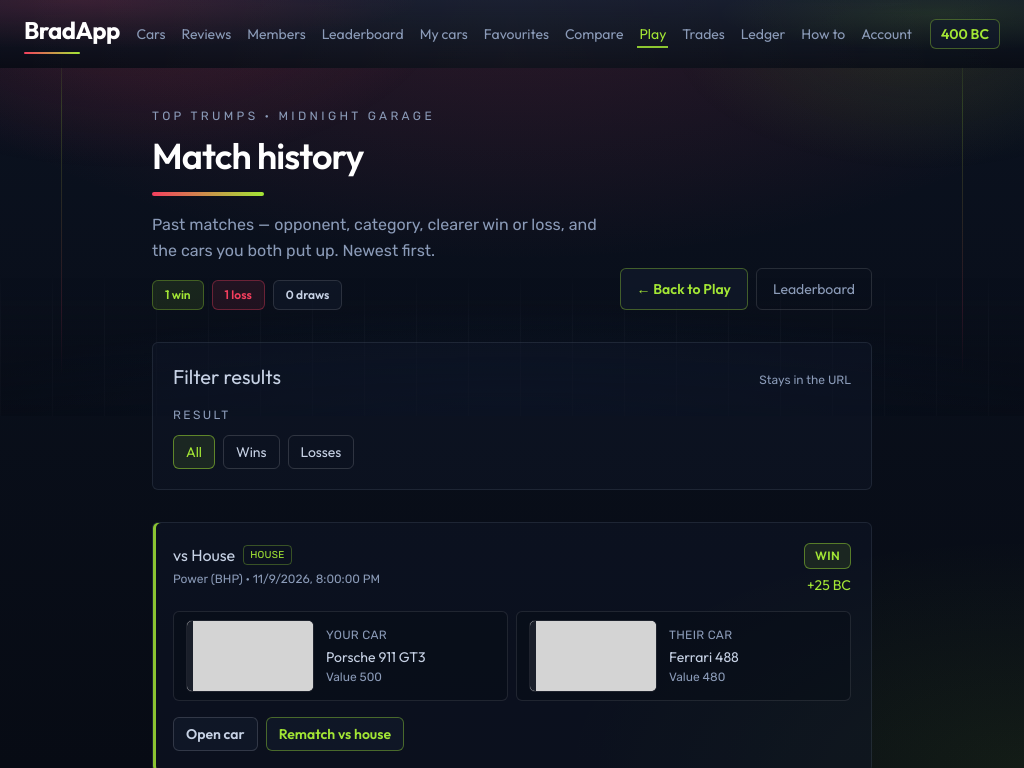
Scenario: MatchHistoryPage Midnight Garage UI › filters wins and losses with result chips in the URL
expect the text "vs House" is shown: met, box top-left (173, 543), bottom-right (235, 567)
Click the button "Wins" at (251, 452), box top-left (223, 435), bottom-right (280, 469)
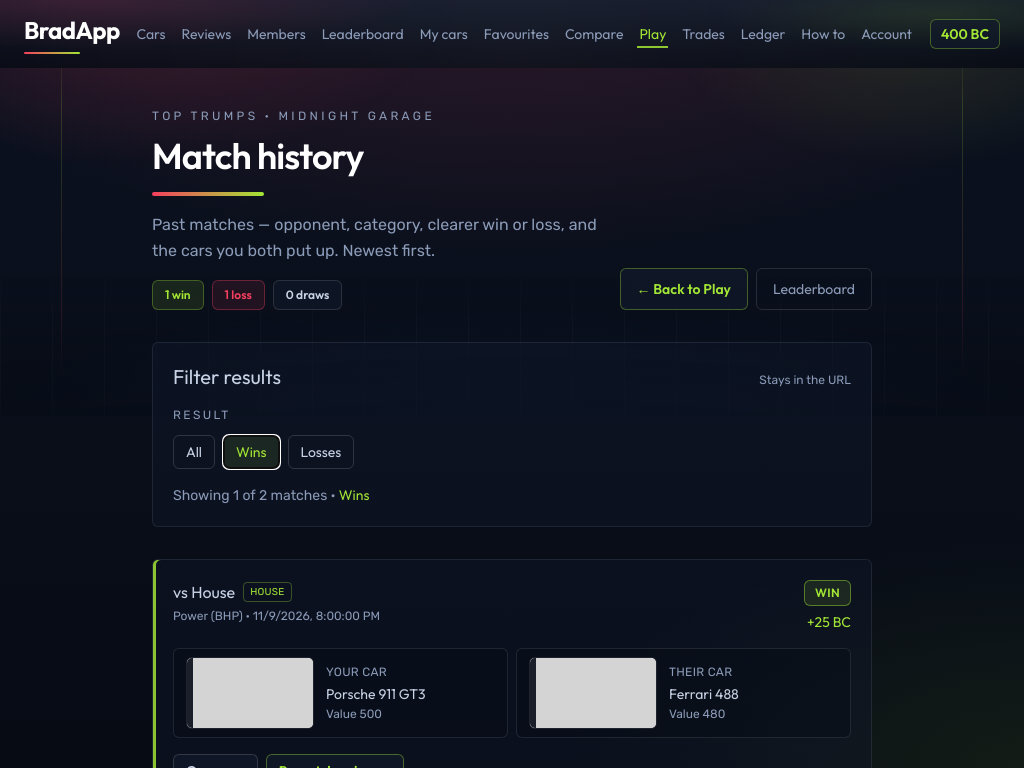
expect the text "vs House" is shown: met, box top-left (173, 580), bottom-right (235, 604)
expect the button "Wins" is pressed: met, box top-left (223, 435), bottom-right (280, 469)
Click the button "Losses" at (321, 452), box top-left (288, 435), bottom-right (354, 469)
(page scrolled)
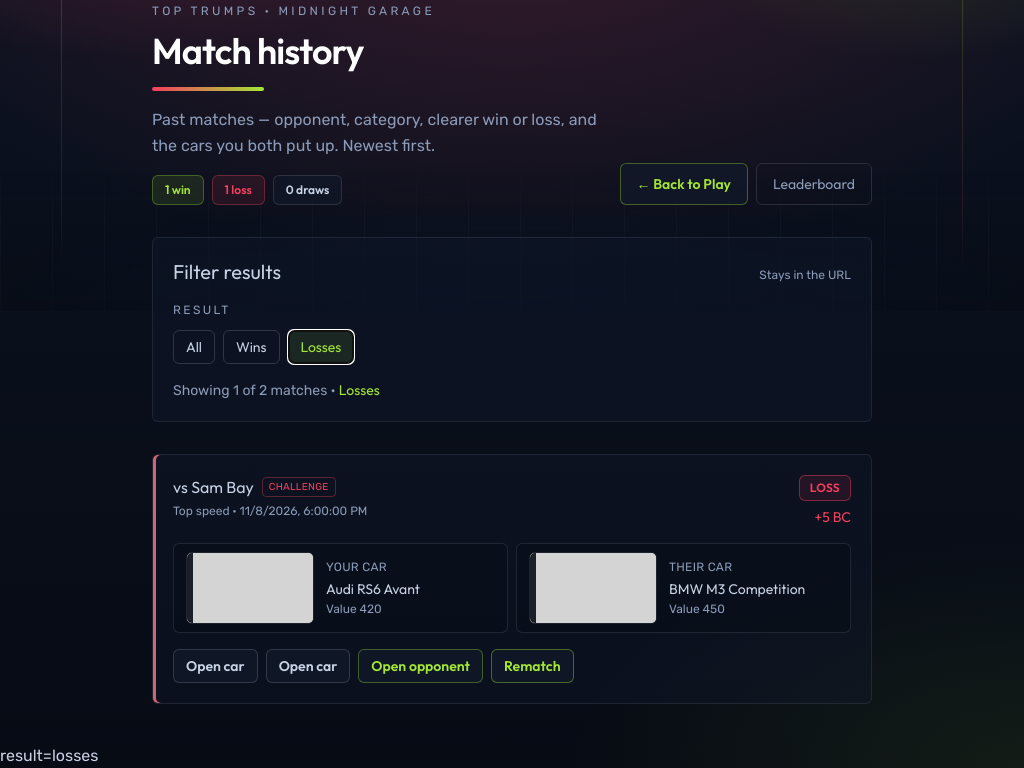
expect the text with test id "play-history-params" reads "result=losses": met, box top-left (0, 746), bottom-right (98, 765)
expect the text "vs Sam Bay" is shown: met, box top-left (173, 475), bottom-right (254, 499)
expect the text "vs House" is gone: met
